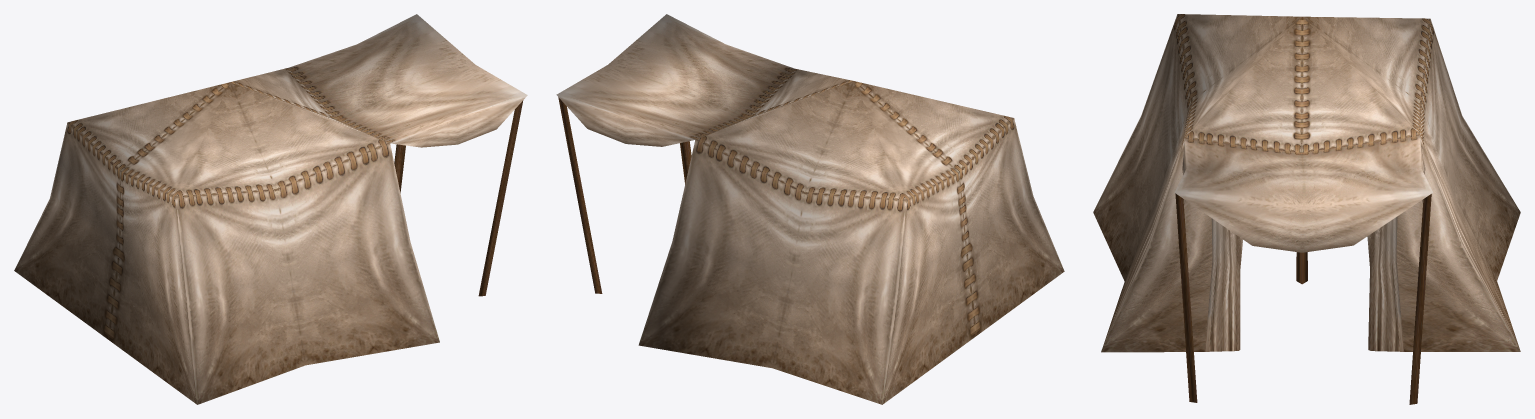
The model's file is excavationtent01.obj.
3 views of the same model, side by side, from view 1: azimuth 30°, elevation 25°; view 2: azimuth 150°, elevation 25°; view 3: azimuth 270°, elevation 25° (orthographic). The views are drawn at different scales.
Parts seen in each view (by area): view 1: Geoset1, Geoset0; view 2: Geoset1, Geoset0; view 3: Geoset1, Geoset0.
Boxes of the visible parts, <box> form: Geoset1: <box>14,14,527,404</box>; Geoset0: <box>394,100,523,296</box>; Geoset1: <box>556,14,1064,404</box>; Geoset0: <box>558,97,691,293</box>; Geoset1: <box>1093,14,1520,352</box>; Geoset0: <box>1175,193,1431,404</box>.
Bounding box in the file's own units: 7.54 × 4.47 × 6.49.
2 materials, 2 textured.
